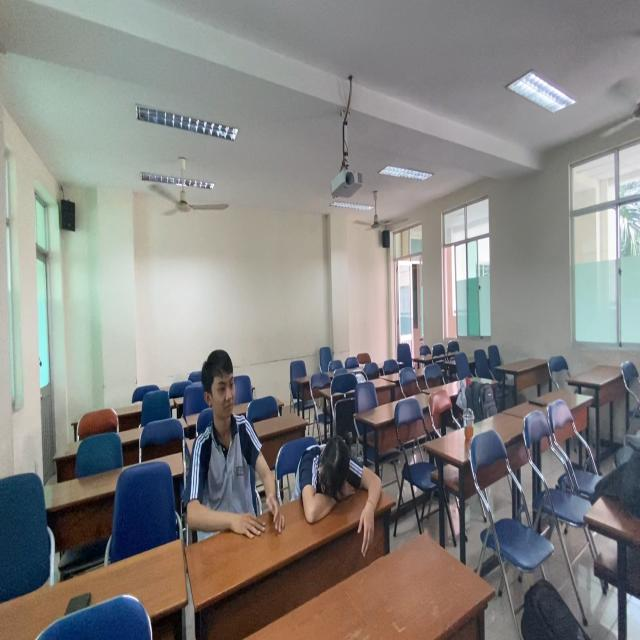sleep: (296, 410, 407, 572)
